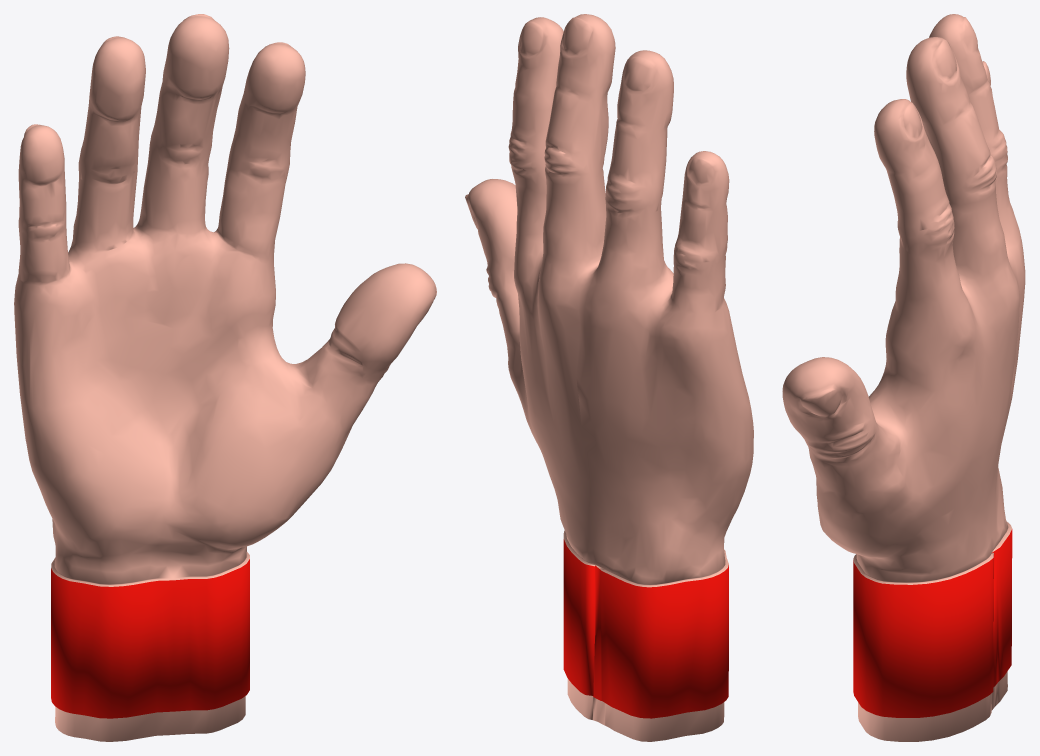
Rendered from block_hand.fbx.
3 renders of one model, left to right at view 1: azimuth 30°, elevation 25°; view 2: azimuth 150°, elevation 25°; view 3: azimuth 270°, elevation 25°, orthographic. The views are drawn at different scales.
Parts seen in each view (by area): view 1: 16834_hand_v1_NEW; view 2: 16834_hand_v1_NEW; view 3: 16834_hand_v1_NEW.
Boxes of the visible parts, x1,y1,x2,y2 form: 16834_hand_v1_NEW: (14,14,436,741); 16834_hand_v1_NEW: (465,14,753,741); 16834_hand_v1_NEW: (782,14,1025,741).
Bounding box in the file's own units: 1333 × 2531 × 805.
